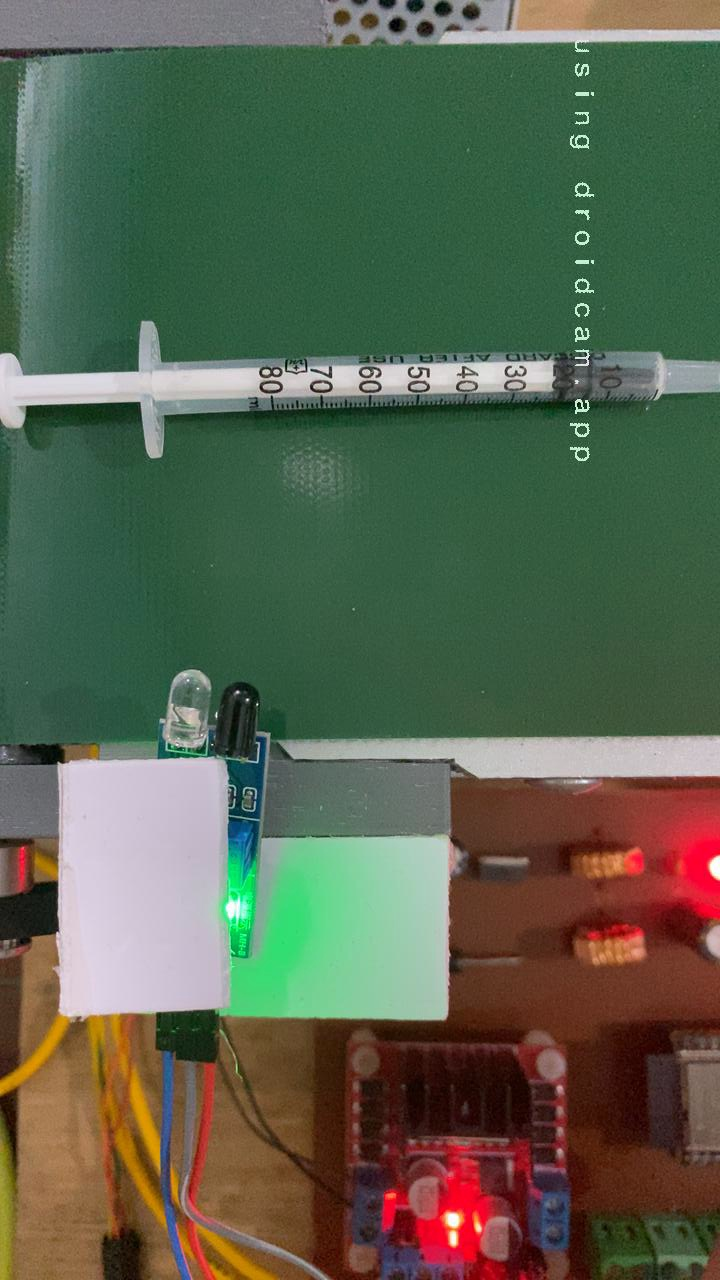syringe: (0, 314, 720, 467)
